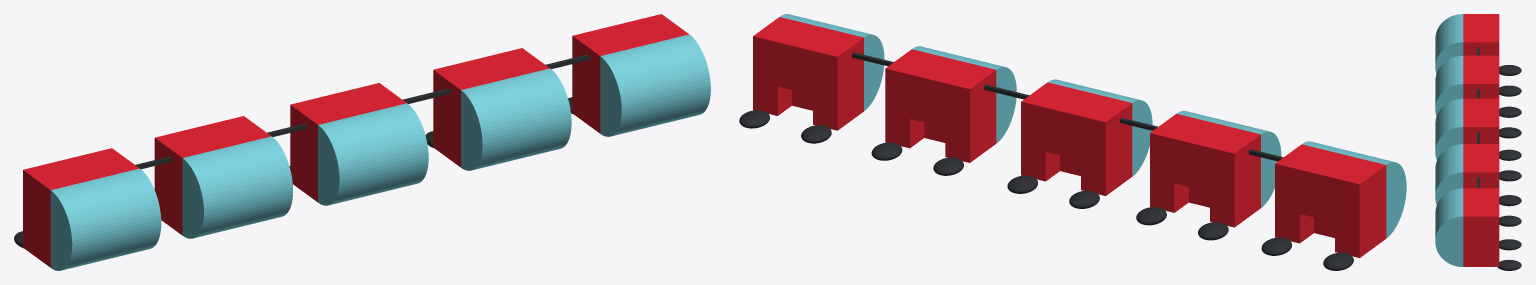
Rendered from tinker.obj.
3 views of the same model, side by side, from view 1: azimuth 30°, elevation 25°; view 2: azimuth 150°, elevation 25°; view 3: azimuth 270°, elevation 25° (orthographic). The views are drawn at different scales.
Parts seen in each view (by area): view 1: group_0_7720667, group_0_15277357, group_0_2829873; view 2: group_0_15277357, group_0_7720667, group_0_2829873; view 3: group_0_15277357, group_0_7720667, group_0_2829873.
Part boxes in pixels (box(x1,y1,x2,y2)): group_0_7720667: box(50, 34, 710, 270); group_0_15277357: box(23, 14, 688, 267); group_0_2829873: box(14, 54, 589, 248); group_0_15277357: box(753, 17, 1386, 257); group_0_7720667: box(780, 14, 1406, 238); group_0_2829873: box(739, 52, 1353, 270); group_0_15277357: box(1463, 14, 1499, 266); group_0_7720667: box(1435, 14, 1463, 266); group_0_2829873: box(1477, 47, 1521, 270).
Bounding box in the file's own units: 173 × 22 × 31.
